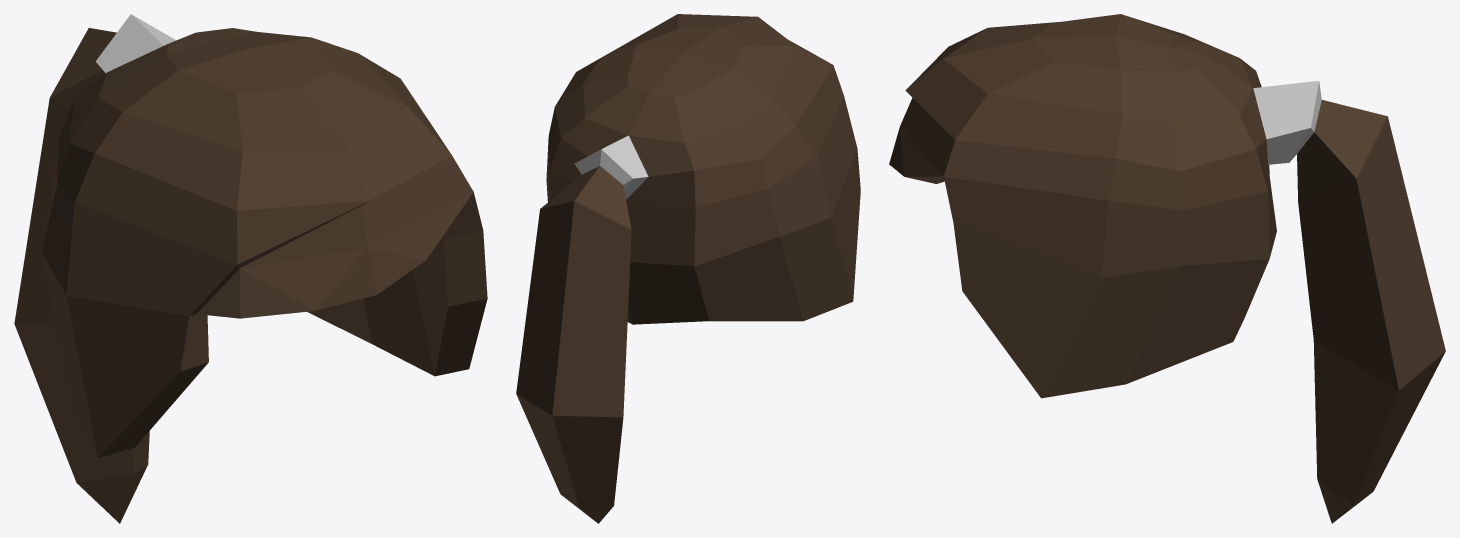
File: crowd_eclair_female_hairstyle_4.0f14a751.glb
3 views of the same model, side by side, from view 1: azimuth 30°, elevation 25°; view 2: azimuth 150°, elevation 25°; view 3: azimuth 270°, elevation 25° (orthographic). The views are drawn at different scales.
Parts seen in each view (by area): view 1: Hair, HairTie; view 2: Hair, HairTie; view 3: Hair, HairTie.
Part boxes in pixels (left/top/right/bottom): Hair: left=14, top=28, right=487, bottom=523; HairTie: left=96, top=14, right=176, bottom=72; Hair: left=516, top=14, right=860, bottom=523; HairTie: left=574, top=135, right=648, bottom=199; Hair: left=889, top=14, right=1445, bottom=523; HairTie: left=1253, top=80, right=1321, bottom=164.
Size of the model in its own units: 0.5233 by 0.7626 by 0.7869.
